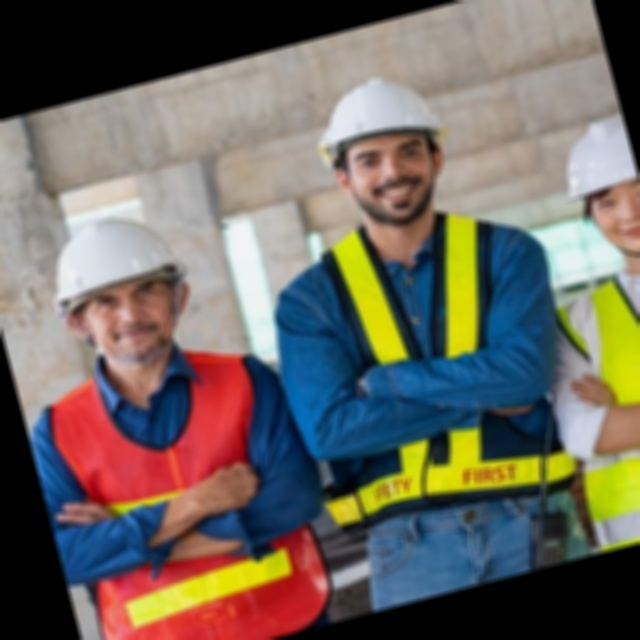Con_Casco: (39, 202, 209, 378), (305, 63, 469, 236), (551, 112, 640, 279)
Con_Chaleco: (269, 193, 584, 533), (26, 328, 341, 640), (535, 270, 640, 553)
